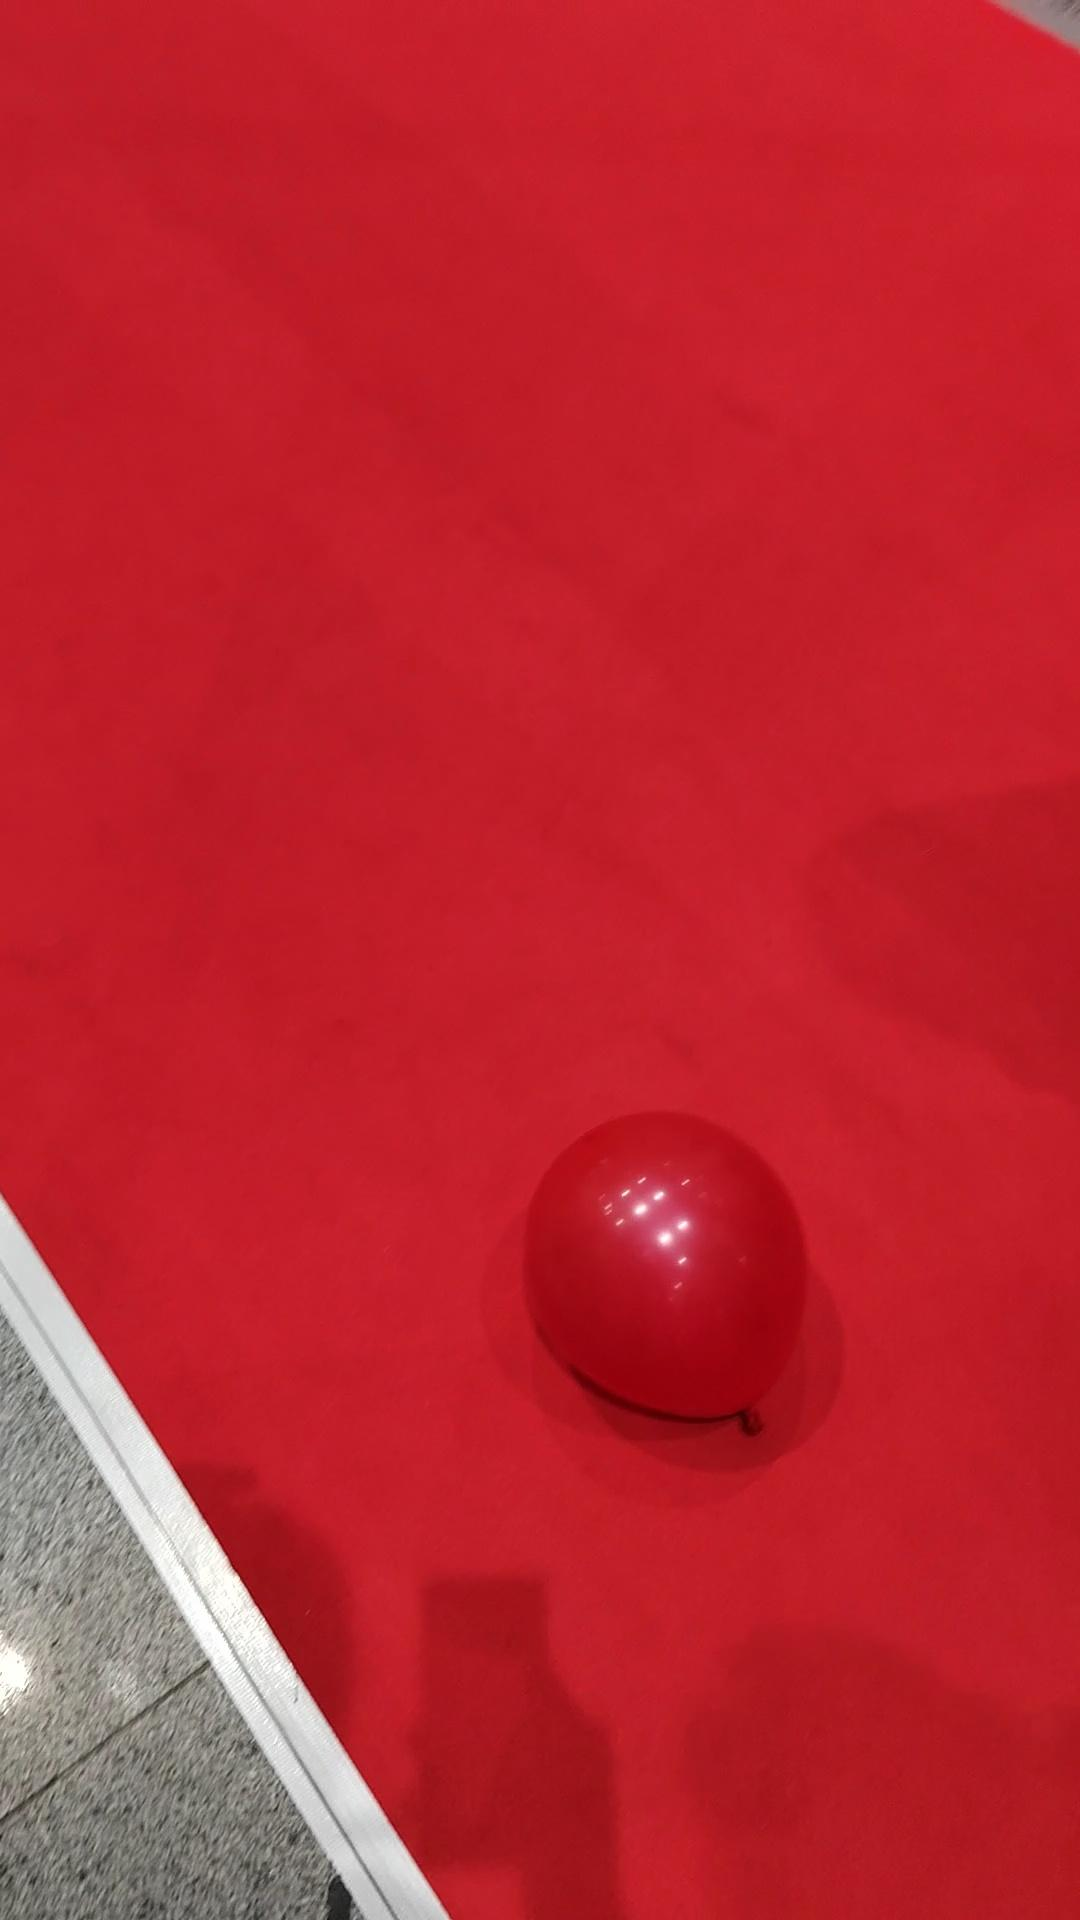red: (524, 1101, 808, 1432)
